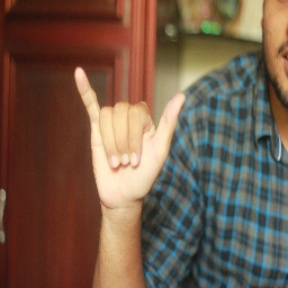J: (73, 64, 187, 201)
